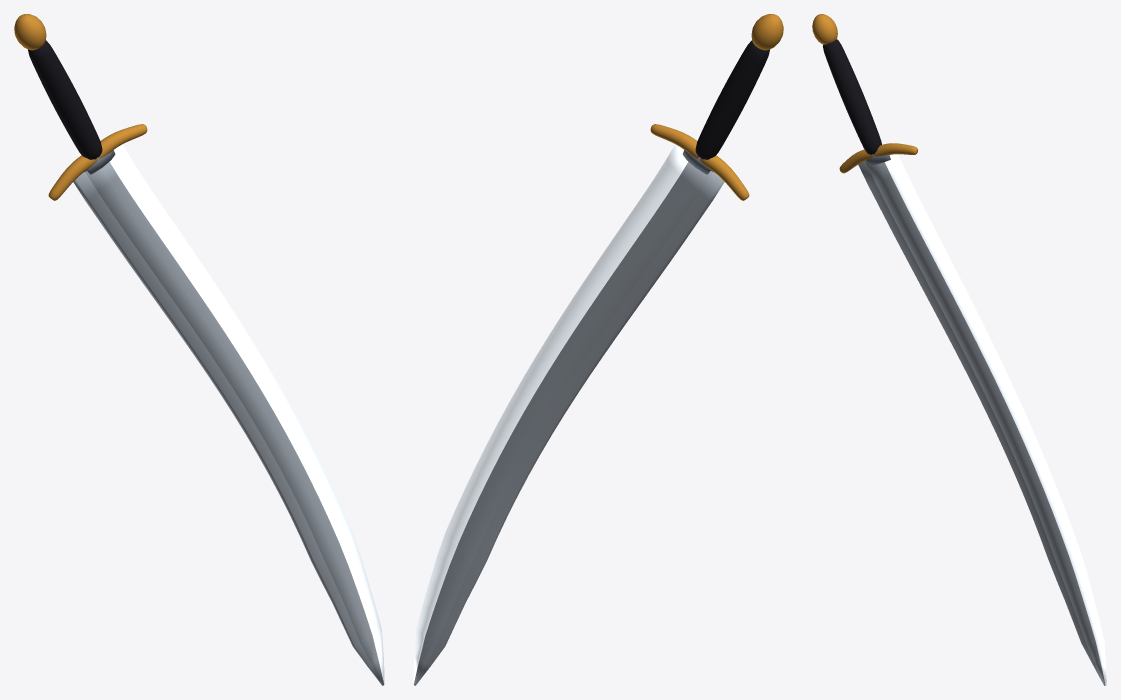
File: espada_inicial_canonical_v007.glb
3 renders of one model, left to right at view 1: azimuth 30°, elevation 25°; view 2: azimuth 150°, elevation 25°; view 3: azimuth 330°, elevation 25°, orthographic. The views are drawn at different scales.
Visible parts, largest first — view 1: blade_readable, blade, sword_grip, sword_guard, sword_pommel; view 2: blade_readable, blade, sword_grip, sword_guard, sword_pommel; view 3: blade_readable, blade, sword_grip, sword_guard, sword_pommel.
Boxes of the visible parts, bbox=[...] form: blade_readable: bbox=[73, 144, 384, 685]; blade: bbox=[85, 168, 383, 685]; sword_grip: bbox=[28, 40, 102, 159]; sword_guard: bbox=[48, 124, 147, 200]; sword_pommel: bbox=[14, 14, 46, 50]; blade_readable: bbox=[413, 144, 724, 685]; blade: bbox=[414, 168, 712, 685]; sword_grip: bbox=[695, 40, 769, 159]; sword_guard: bbox=[650, 124, 749, 200]; sword_pommel: bbox=[751, 14, 783, 50]; blade_readable: bbox=[858, 154, 1106, 685]; blade: bbox=[865, 161, 1105, 685]; sword_grip: bbox=[823, 39, 881, 154]; sword_guard: bbox=[839, 143, 917, 173]; sword_pommel: bbox=[812, 14, 837, 44].
Size of the model in its own units: 0.463 by 0.9091 by 0.0331.
